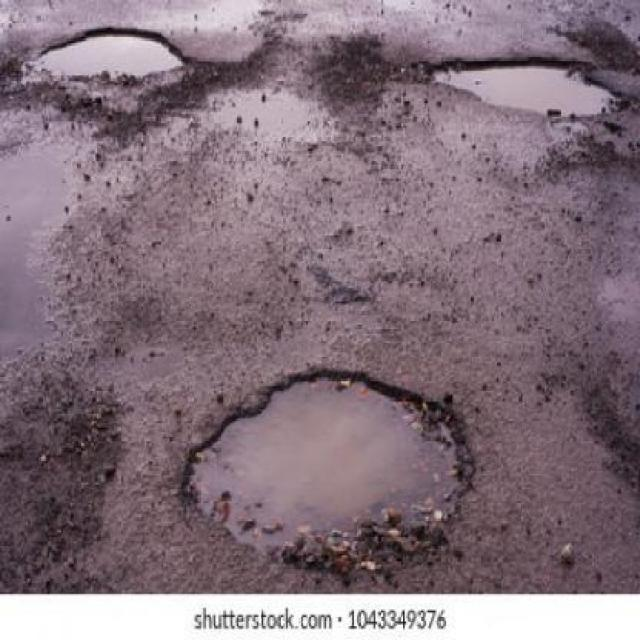pothole: (176, 368, 481, 574), (419, 53, 630, 122), (19, 25, 193, 87)
